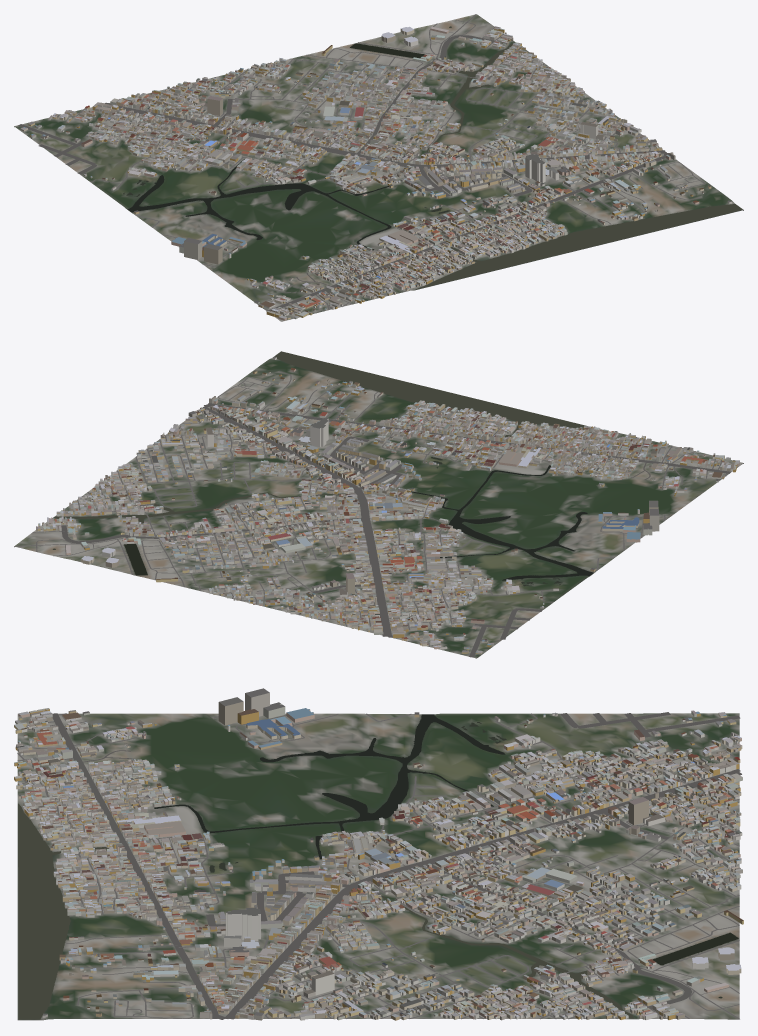
The picture shows the model from 3 angles, top to bottom: view 1: azimuth 30°, elevation 25°; view 2: azimuth 150°, elevation 25°; view 3: azimuth 270°, elevation 25°; orthographic projection. The views are drawn at different scales.
Visible parts, largest first — view 1: ground, buildings, roads, water; view 2: ground, buildings, roads, water; view 3: ground, buildings, roads, water.
Part boxes in pixels (x1,y1,x2,y2): ground: (14,14,743,321); buildings: (20,26,732,320); roads: (18,14,704,314); water: (123,26,742,289); ground: (14,353,743,658); buildings: (36,356,739,654); roads: (14,371,730,657); water: (53,351,600,586); ground: (17,713,739,1020); buildings: (14,688,743,1020); roads: (17,712,741,1019); water: (18,714,738,1019).
Size of the model in its own units: 1427 by 59.8 by 1416.
